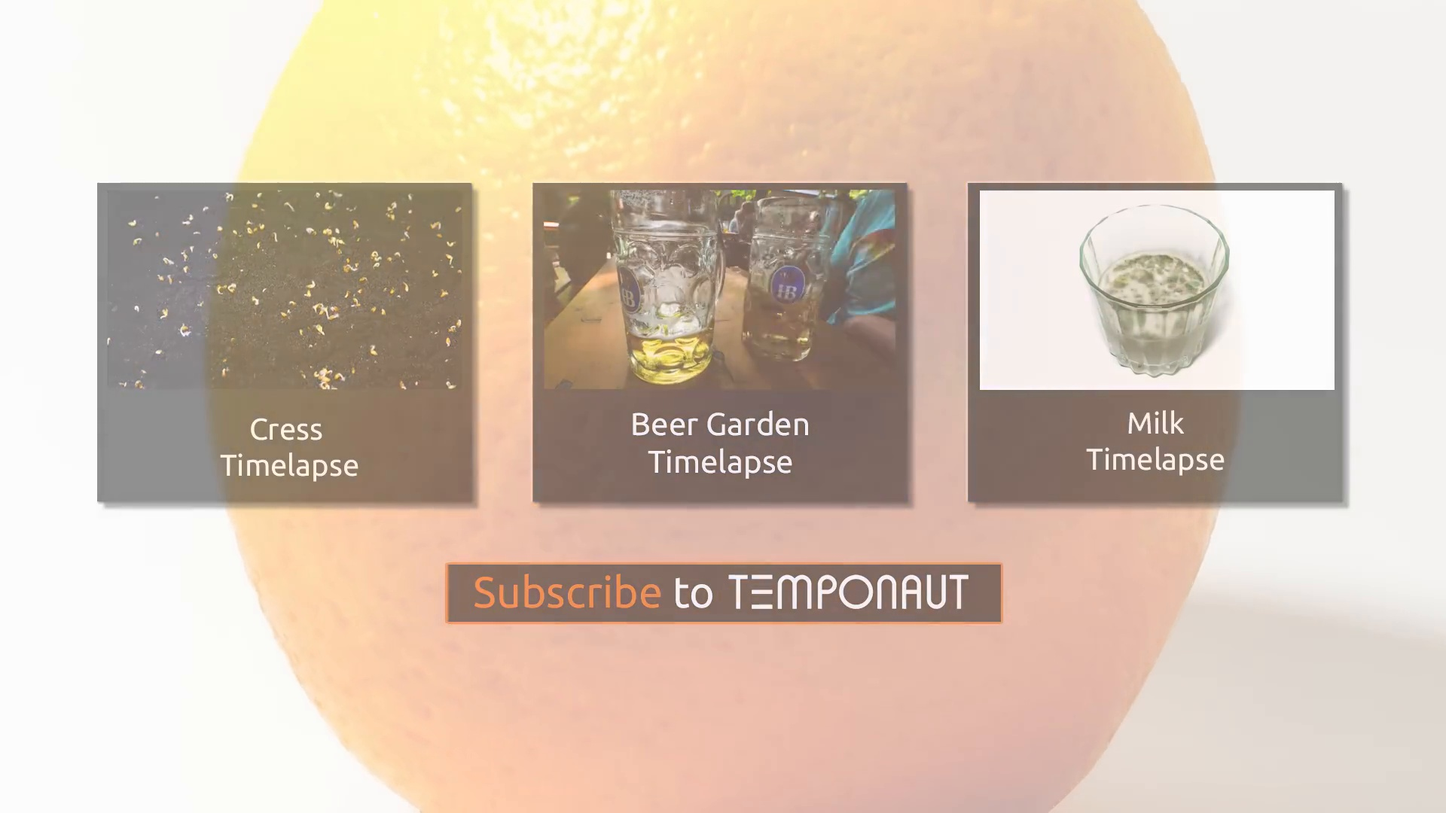orange_rotten: (203, 2, 1244, 799)
